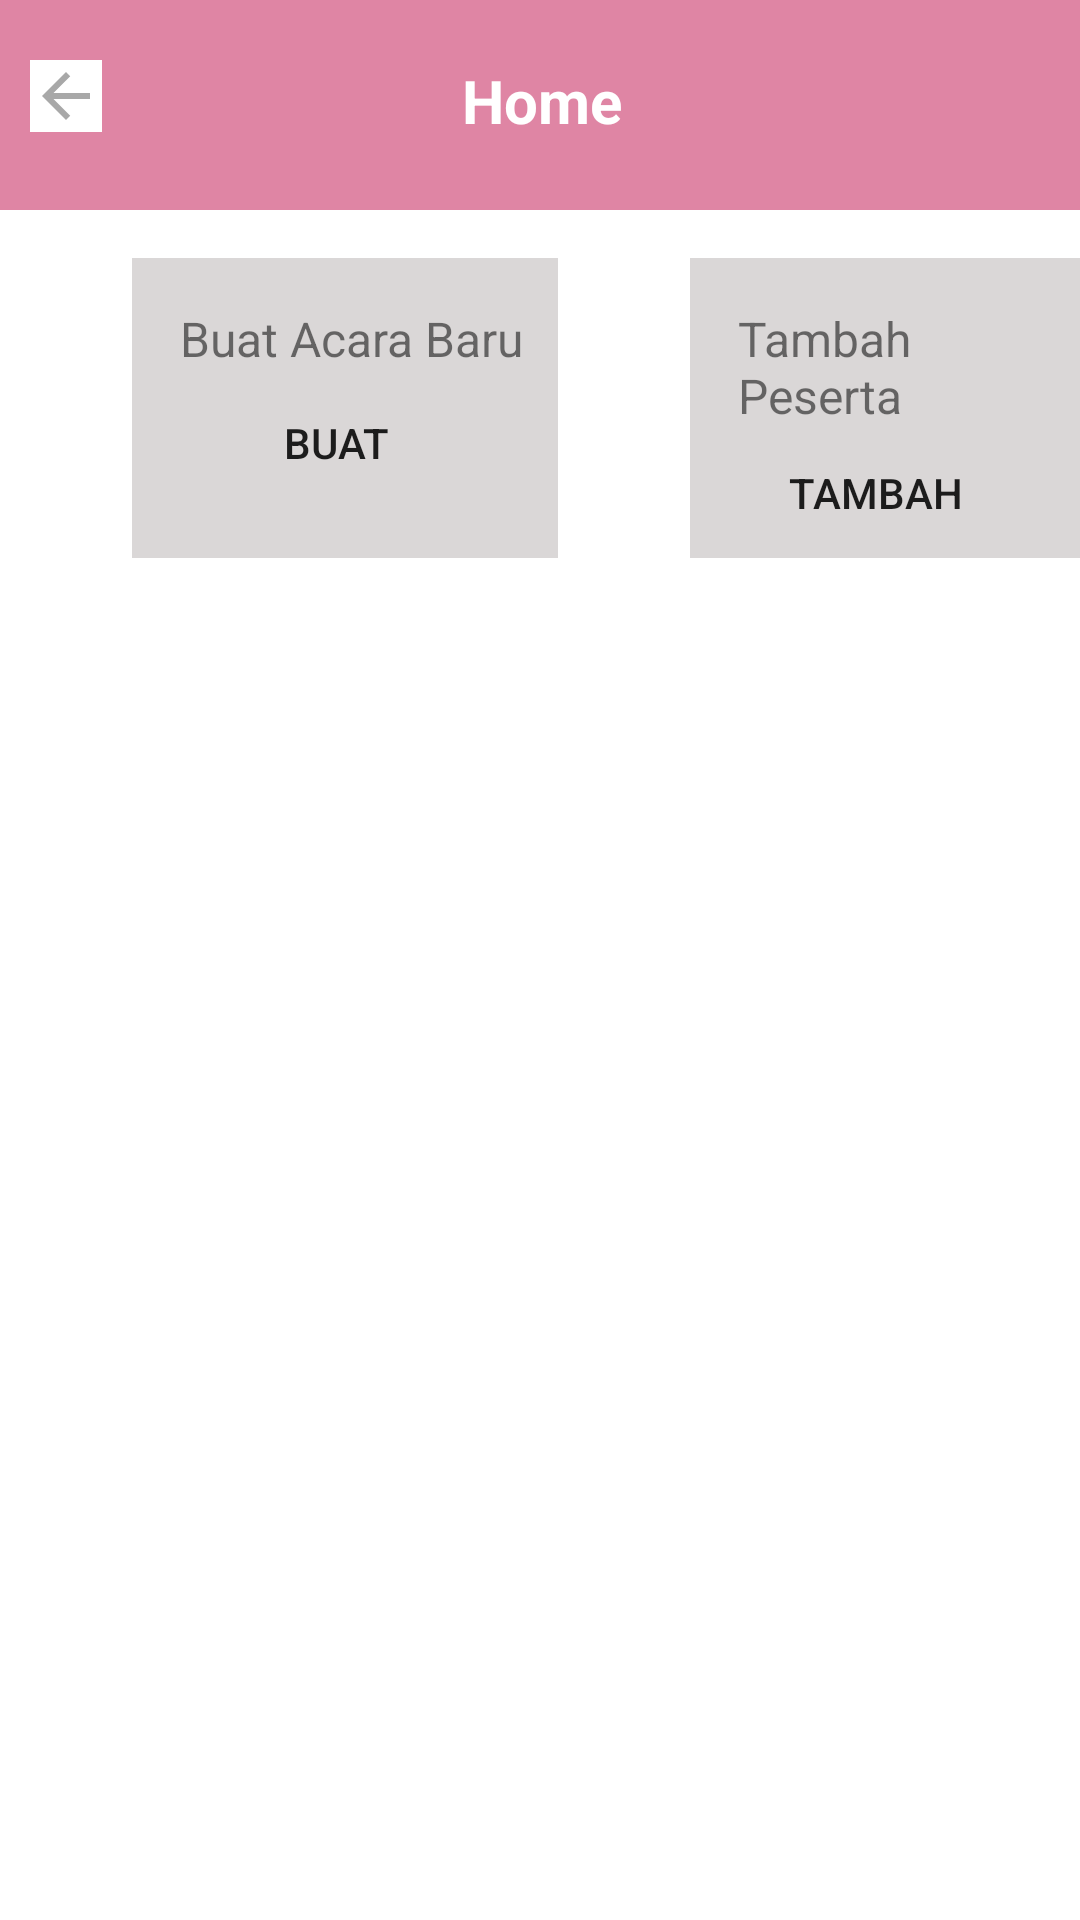

Icon click points for this 1080×1920 phone screenshot, format point (x, y):
arrow back: point (66, 96)
